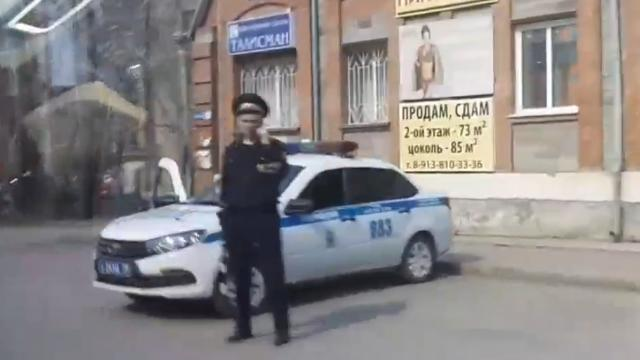police car: (93, 141, 458, 321)
